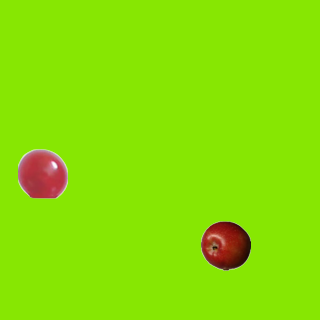Apple Braeburn: (200, 220, 250, 270)
Redcurrant: (17, 148, 67, 198)
